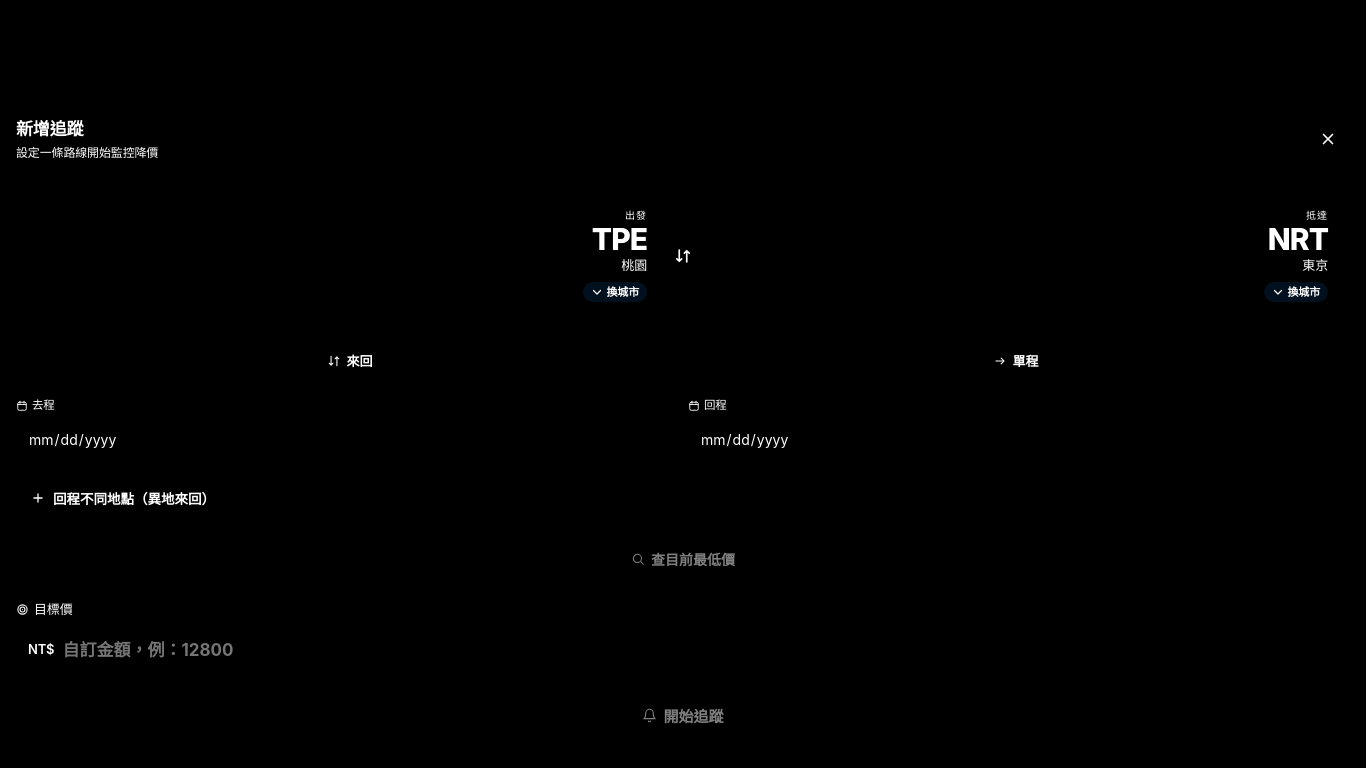
AddWatchSheet › 填好日期 → preview button enable + 點擊打 /api/search
In the date field labelled "去程": (347, 439) [16,418,678,460], type "2026-09-01"
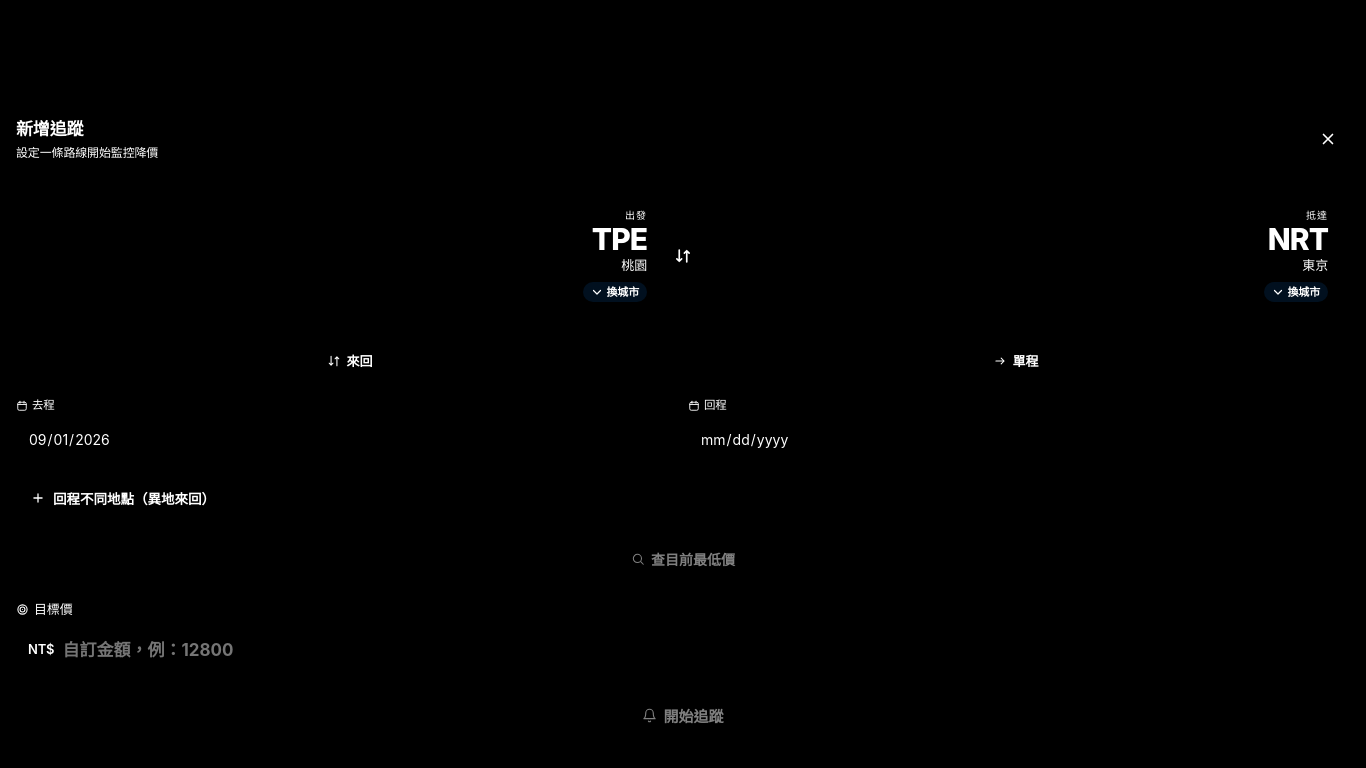
In the date field labelled "回程": (1019, 439) [688,418,1350,460], type "2026-09-05"
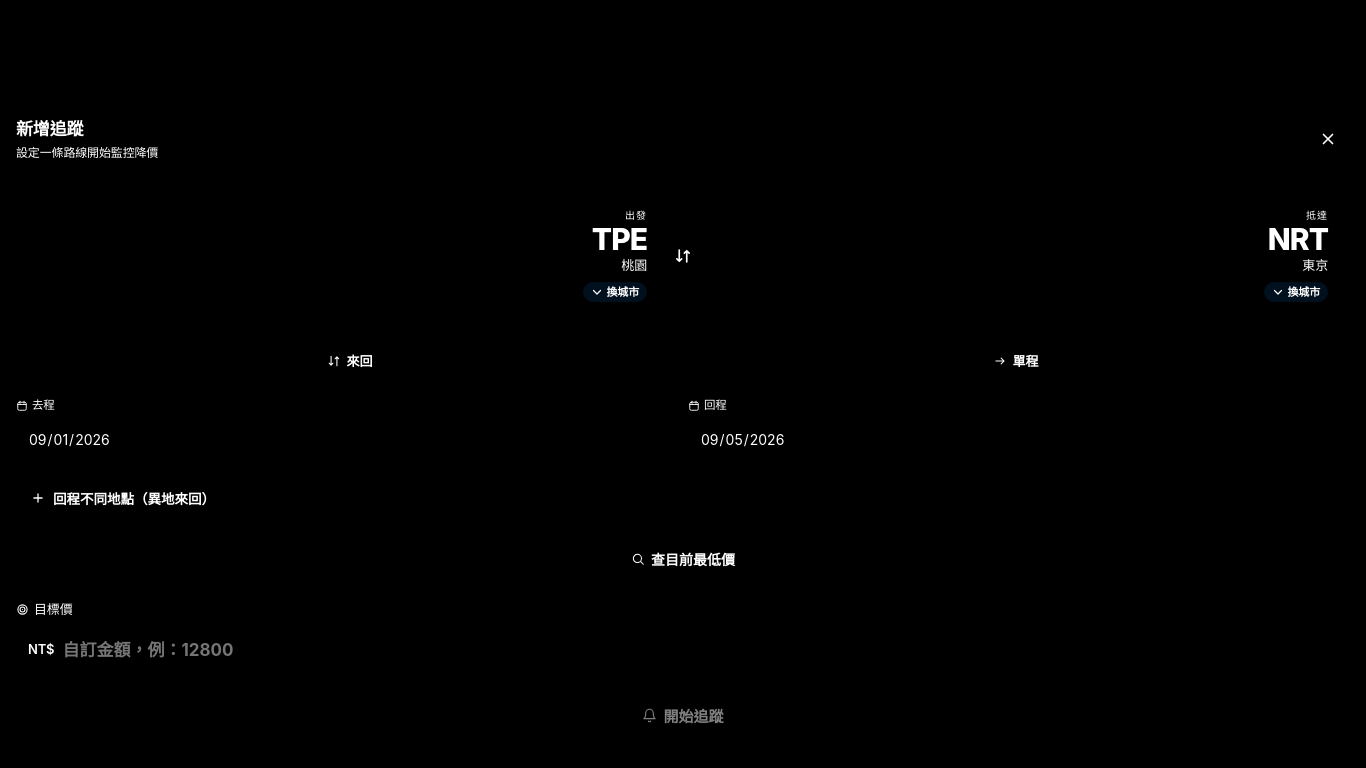
Click the button "查目前最低價": (683, 558) [16,536,1350,582]
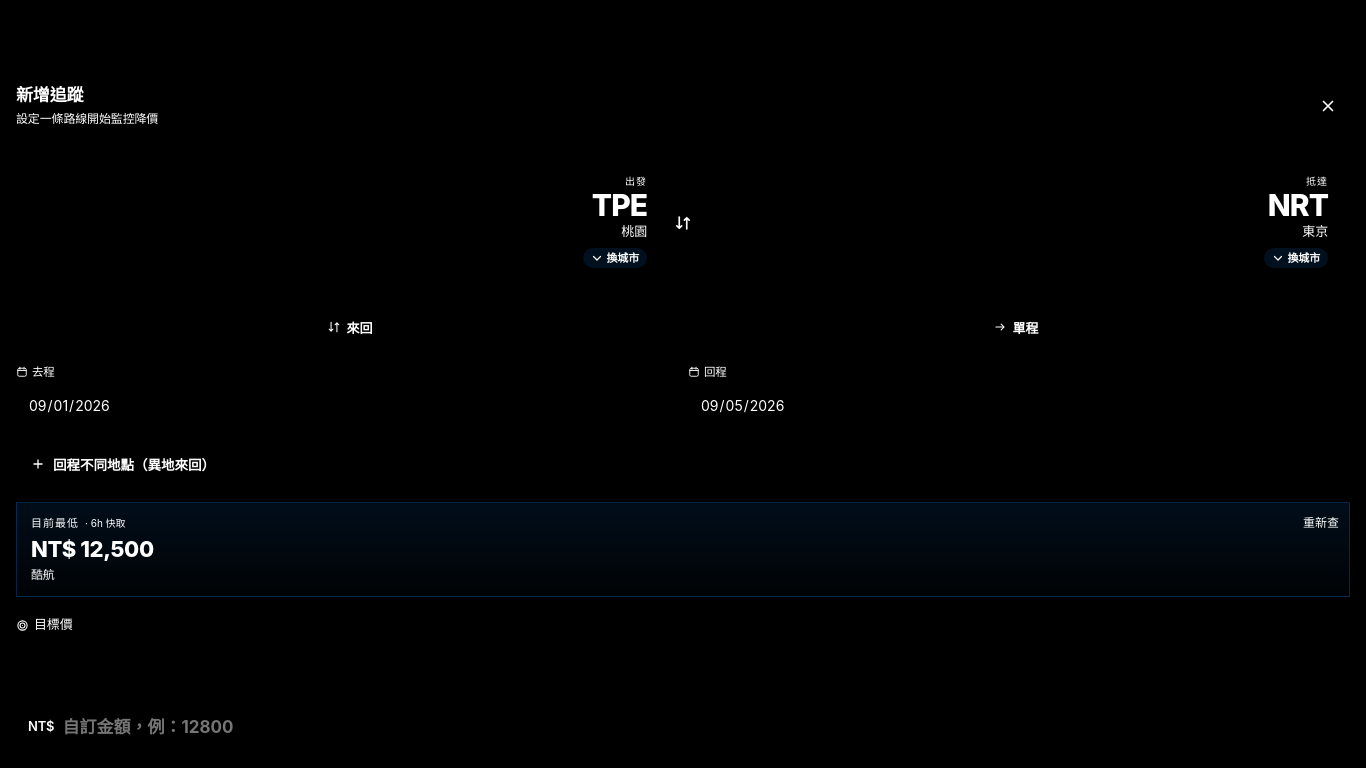
Expected: the text "酷航" is shown, [31,568,55,582]
Expected: the text "快取" is shown, [85,517,126,529]
